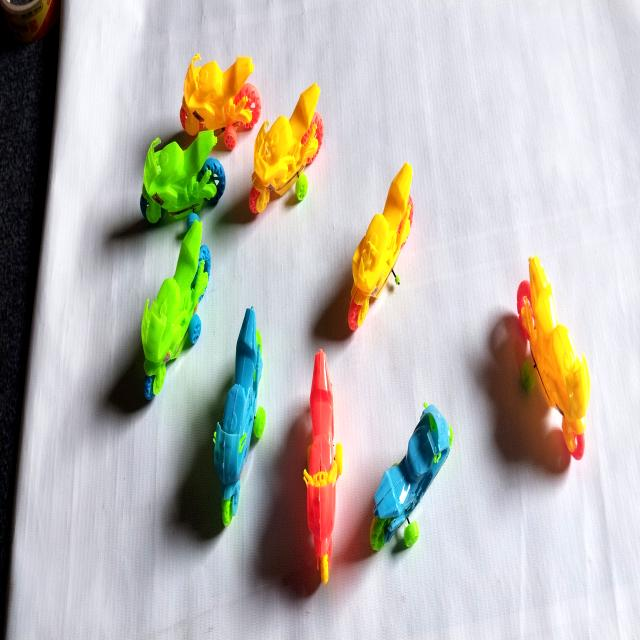bikes: (517, 256, 590, 459), (141, 219, 210, 399), (371, 405, 453, 549), (214, 308, 265, 526), (349, 163, 413, 329), (249, 83, 324, 213), (304, 349, 342, 584), (141, 130, 225, 229), (180, 54, 261, 150)
